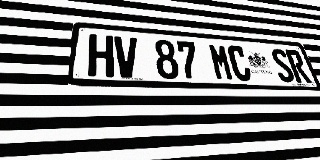7: (175, 41, 201, 80)
8: (154, 39, 180, 79)
C: (226, 45, 253, 81)
H: (87, 34, 114, 77)
M: (208, 43, 235, 81)
R: (284, 49, 312, 83)
S: (269, 48, 296, 82)
V: (114, 36, 139, 78)
